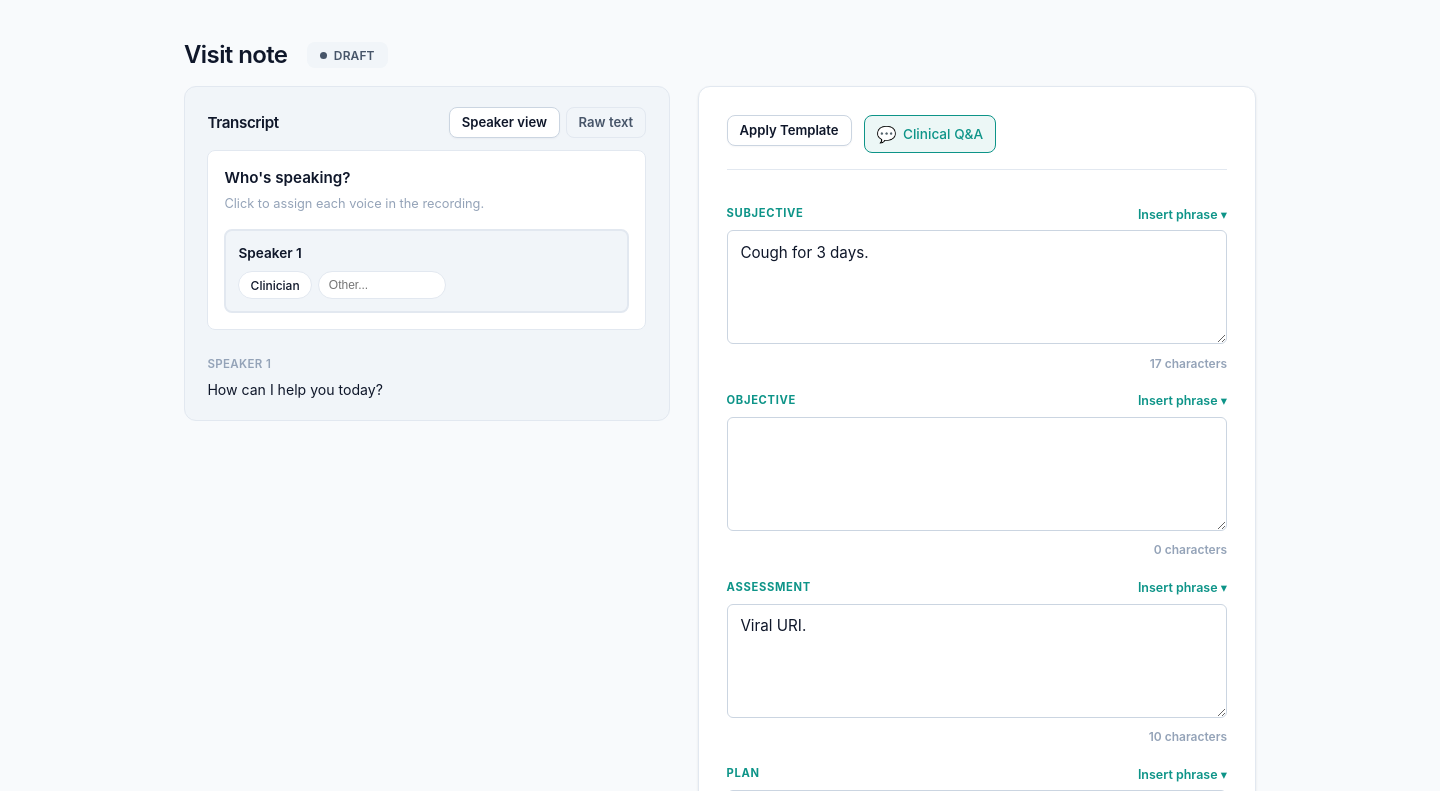
Scenario: NoteReview › shows an error toast and leaves the label unchanged if saving fails
This screenshot has width=1440, height=791.
Expected: the text box showing "Cough for 3 days." below "subjective" is shown, [727,230,1227,344]
Click the button "Clinician" at point(275, 285), box [238,271,312,299]
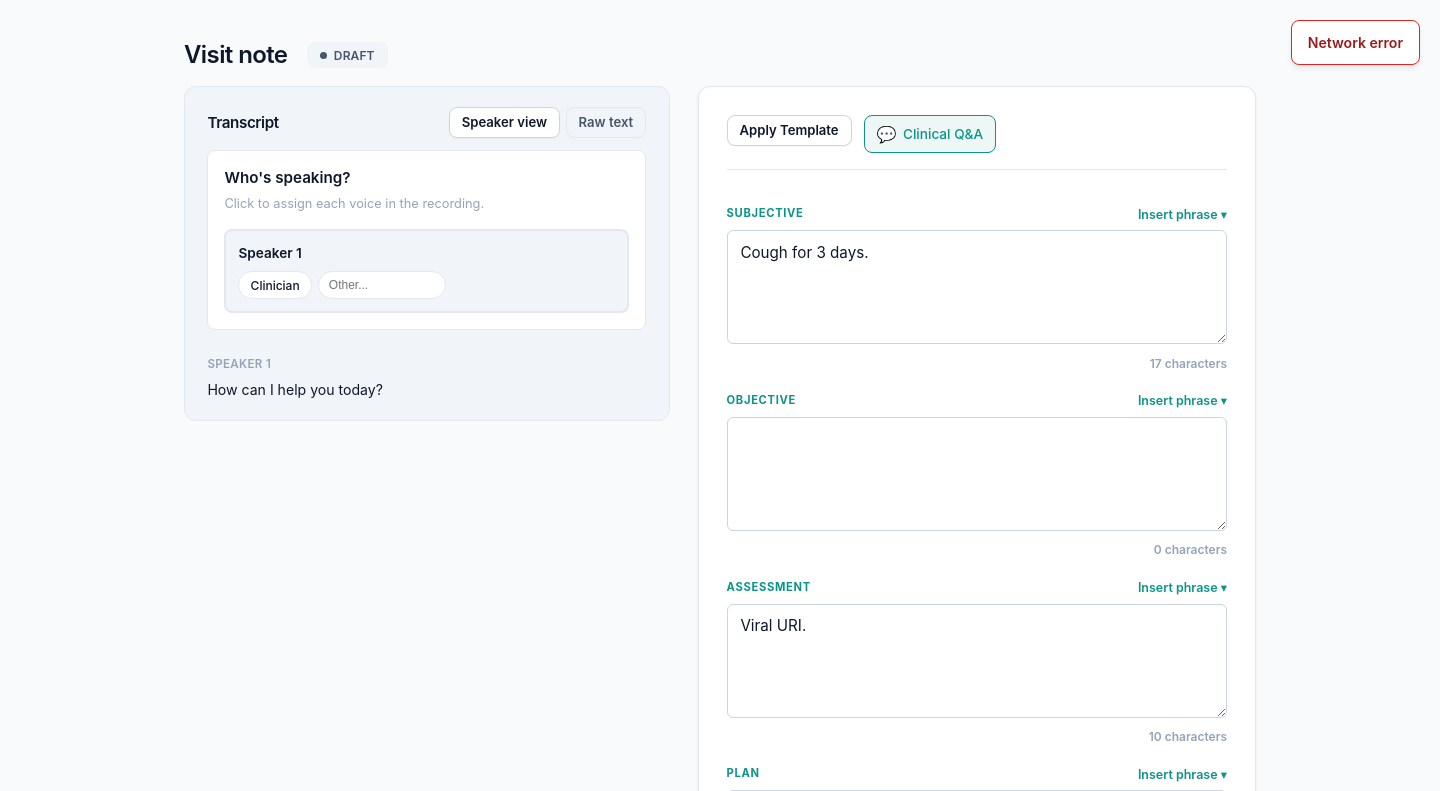
Expected: the text "Speaker 1" is shown 2 times, [238,243,302,263]; [207,357,271,371]
Now the text "Network error" is shown, box [1291,20,1420,66]
